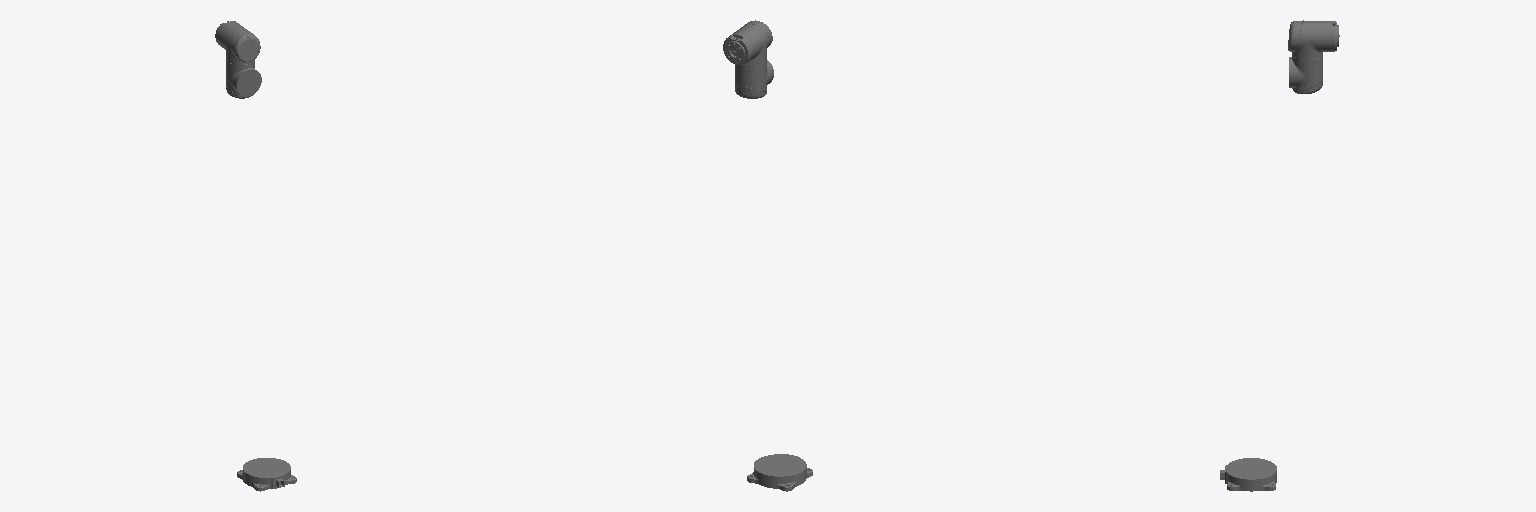
URDF robot description (onshape):
<robot name="onshape">
<link name="base_link">
<visual>
<origin xyz="0 0 0" rpy="0 -0 0" />
<geometry>
<mesh filename="package://urdf_viewer/urdf/UR10/base_link_visual.stl"/>
</geometry>
<material name="base_link_material">
<color rgba="0.5 0.5 0.5 1.0"/>
</material>
</visual>
<collision>
<origin xyz="0 0 0" rpy="0 -0 0" />
<geometry>
<mesh filename="package://urdf_viewer/urdf/UR10/base_link_collision.stl"/>
</geometry>
</collision>
<inertial>
<origin xyz="0 0 0" rpy="0 0 0"/>
<mass value="0" />
<inertia ixx="0" ixy="0"  ixz="0" iyy="0" iyz="0" izz="0" />
</inertial>
</link>

<link name="link_1">
<visual>
<origin xyz="0 0 0" rpy="0 -0 0" />
<geometry>
<mesh filename="package://urdf_viewer/urdf/UR10/link_1_visual.stl"/>
</geometry>
<material name="link_1_material">
<color rgba="0.5 0.5 0.5 1.0"/>
</material>
</visual>
<collision>
<origin xyz="0 0 0" rpy="0 -0 0" />
<geometry>
<mesh filename="package://urdf_viewer/urdf/UR10/link_1_collision.stl"/>
</geometry>
</collision>
<inertial>
<origin xyz="0 0 0" rpy="0 0 0"/>
<mass value="0" />
<inertia ixx="0" ixy="0"  ixz="0" iyy="0" iyz="0" izz="0" />
</inertial>
</link>

<link name="link_2">
<visual>
<origin xyz="0 0 0" rpy="0 -0 0" />
<geometry>
<mesh filename="package://urdf_viewer/urdf/UR10/link_2_visual.stl"/>
</geometry>
<material name="link_2_material">
<color rgba="0.5 0.5 0.5 1.0"/>
</material>
</visual>
<collision>
<origin xyz="0 0 0" rpy="0 -0 0" />
<geometry>
<mesh filename="package://urdf_viewer/urdf/UR10/link_2_collision.stl"/>
</geometry>
</collision>
<inertial>
<origin xyz="0 0 0" rpy="0 0 0"/>
<mass value="0" />
<inertia ixx="0" ixy="0"  ixz="0" iyy="0" iyz="0" izz="0" />
</inertial>
</link>

<link name="link_3">
<visual>
<origin xyz="0 0 0" rpy="0 -0 0" />
<geometry>
<mesh filename="package://urdf_viewer/urdf/UR10/link_3_visual.stl"/>
</geometry>
<material name="link_3_material">
<color rgba="0.5 0.5 0.5 1.0"/>
</material>
</visual>
<collision>
<origin xyz="0 0 0" rpy="0 -0 0" />
<geometry>
<mesh filename="package://urdf_viewer/urdf/UR10/link_3_collision.stl"/>
</geometry>
</collision>
<inertial>
<origin xyz="0 0 0" rpy="0 0 0"/>
<mass value="0" />
<inertia ixx="0" ixy="0"  ixz="0" iyy="0" iyz="0" izz="0" />
</inertial>
</link>

<link name="link_4">
<visual>
<origin xyz="0 0 0" rpy="0 -0 0" />
<geometry>
<mesh filename="package://urdf_viewer/urdf/UR10/link_4_visual.stl"/>
</geometry>
<material name="link_4_material">
<color rgba="0.5 0.5 0.5 1.0"/>
</material>
</visual>
<collision>
<origin xyz="0 0 0" rpy="0 -0 0" />
<geometry>
<mesh filename="package://urdf_viewer/urdf/UR10/link_4_collision.stl"/>
</geometry>
</collision>
<inertial>
<origin xyz="0 0 0" rpy="0 0 0"/>
<mass value="0" />
<inertia ixx="0" ixy="0"  ixz="0" iyy="0" iyz="0" izz="0" />
</inertial>
</link>

<link name="link_5">
<visual>
<origin xyz="0 0 0" rpy="0 -0 0" />
<geometry>
<mesh filename="package://urdf_viewer/urdf/UR10/link_5_visual.stl"/>
</geometry>
<material name="link_5_material">
<color rgba="0.5 0.5 0.5 1.0"/>
</material>
</visual>
<collision>
<origin xyz="0 0 0" rpy="0 -0 0" />
<geometry>
<mesh filename="package://urdf_viewer/urdf/UR10/link_5_collision.stl"/>
</geometry>
</collision>
<inertial>
<origin xyz="0 0 0" rpy="0 0 0"/>
<mass value="0" />
<inertia ixx="0" ixy="0"  ixz="0" iyy="0" iyz="0" izz="0" />
</inertial>
</link>

<link name="link_6">
<visual>
<origin xyz="0 0 0" rpy="0 -0 0" />
<geometry>
<mesh filename="package://urdf_viewer/urdf/UR10/link_6_visual.stl"/>
</geometry>
<material name="link_6_material">
<color rgba="0.5 0.5 0.5 1.0"/>
</material>
</visual>
<collision>
<origin xyz="0 0 0" rpy="0 -0 0" />
<geometry>
<mesh filename="package://urdf_viewer/urdf/UR10/link_6_collision.stl"/>
</geometry>
</collision>
<inertial>
<origin xyz="0 0 0" rpy="0 0 0"/>
<mass value="0" />
<inertia ixx="0" ixy="0"  ixz="0" iyy="0" iyz="0" izz="0" />
</inertial>
</link>

<link name="tool_link">
<visual>
<origin xyz="0 0 0" rpy="0 -0 0" />
<geometry>
<mesh filename="package://urdf_viewer/urdf/UR10/tool_link_visual.stl"/>
</geometry>
<material name="tool_link_material">
<color rgba="0.5 0.5 0.5 1.0"/>
</material>
</visual>
<collision>
<origin xyz="0 0 0" rpy="0 -0 0" />
<geometry>
<mesh filename="package://urdf_viewer/urdf/UR10/tool_link_collision.stl"/>
</geometry>
</collision>
<inertial>
<origin xyz="0 0 0" rpy="0 0 0"/>
<mass value="0" />
<inertia ixx="0" ixy="0"  ixz="0" iyy="0" iyz="0" izz="0" />
</inertial>
</link>

<joint name="tool_joint" type="fixed">
<origin xyz="-2.4589488431536743462e-14 -2.5052026453309395038e-07 -0.030499999999999999334" rpy="-3.1415926535897873428 8.1717553996957056569e-17 -1.2892416915088005543e-30" />
<parent link="link_6" />
<child link="tool_link" />
<axis xyz="0 0 1"/>
<limit effort="1" velocity="20" />
<joint_properties friction="0.0"/>
</joint>

<joint name="jonit_6" type="revolute">
<origin xyz="1.1268357286023725217e-07 -0.061700210890544865405 -0.054000000000002490452" rpy="-1.5707963267948976682 2.1941589971246535956e-15 2.57971935940525504e-15" />
<parent link="link_5" />
<child link="link_6" />
<axis xyz="0 0 1"/>
<limit effort="1" velocity="20" lower="0" upper="6.283185307179586232"/>
<joint_properties friction="0.0"/>
</joint>

<joint name="joint_5" type="revolute">
<origin xyz="-1.1268356927998483819e-07 0.061700210890553774945 -0.054000000000000755729" rpy="1.5707963267948972241 1.6760055792113724001e-15 5.1258357588186741462e-15" />
<parent link="link_4" />
<child link="link_5" />
<axis xyz="0 0 1"/>
<limit effort="1" velocity="20" lower="0" upper="3.141592653589793116"/>
<joint_properties friction="0.0"/>
</joint>

<joint name="joint_4" type="revolute">
<origin xyz="-1.7877409622113482612e-15 -0.57160000000000410481 0.0020000000000002099432" rpy="-3.141592653589793116 2.4833361728621137177e-16 4.4130740263179371005e-15" />
<parent link="link_3" />
<child link="link_4" />
<axis xyz="0 0 1"/>
<limit effort="1" velocity="20" lower="0" upper="3.141592653589793116"/>
<joint_properties friction="0.0"/>
</joint>

<joint name="joint_3" type="revolute">
<origin xyz="0.00060145195033005696954 0.61209854804966801201 -0.02169071053999881149" rpy="-3.1415926535897926719 3.9842875890204341081e-17 -3.9274139496116237904e-15" />
<parent link="link_2" />
<child link="link_3" />
<axis xyz="0 0 1"/>
<limit effort="1" velocity="20" lower="0" upper="3.141592653589793116"/>
<joint_properties friction="0.0"/>
</joint>

<joint name="joint_2" type="revolute">
<origin xyz="-2.9461451378697759828e-08 -0.085999999999999063305 -0.090001015933243389" rpy="-1.570796326794896558 4.2353203346694858779e-14 2.4626951072822688244e-16" />
<parent link="link_1" />
<child link="link_2" />
<axis xyz="0 0 1"/>
<limit effort="1" velocity="20" lower="0" upper="3.141592653589793116"/>
<joint_properties friction="0.0"/>
</joint>

<joint name="jonit_1" type="revolute">
<origin xyz="-5.9996830596793661436e-05 0.00030106987869847980956 0.037999999999999999056" rpy="-3.141592653589793116 -4.3438406177895038265e-17 1.2375662337402896606e-33" />
<parent link="base_link" />
<child link="link_1" />
<axis xyz="0 0 1"/>
<limit effort="1" velocity="20" lower="0" upper="6.283185307179586232"/>
<joint_properties friction="0.0"/>
</joint>


</robot>

--- Render facts (derived) ---
The picture shows the robot from 3 angles, left to right: view 1: azimuth 30°, elevation 25°; view 2: azimuth 150°, elevation 25°; view 3: azimuth 270°, elevation 25°; orthographic projection.
Robot: onshape — 8 links, 7 joints (6 revolute, 1 fixed); root link base_link; default pose: every joint at zero.
Visible links, largest first — view 1: base_link, link_5, link_4; view 2: base_link, link_4, link_5, link_6; view 3: base_link, link_5, link_4.
Boxes of the visible links, <box> form: base_link: <box>237,458,296,491</box>; link_5: <box>218,22,260,64</box>; link_4: <box>226,60,261,98</box>; base_link: <box>747,454,812,491</box>; link_4: <box>735,59,773,98</box>; link_5: <box>733,20,772,63</box>; link_6: <box>723,33,753,64</box>; base_link: <box>1220,458,1276,491</box>; link_5: <box>1288,20,1328,59</box>; link_4: <box>1289,54,1322,93</box>.
Bounding box of the posed robot: 0.15 × 0.3504 × 1.47 m (x, y, z).
5 mesh visuals loaded from 8 distinct referenced files (5 binary STL); not drawn: 3 (reference not matched to a file when rendering).
